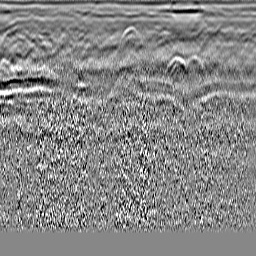cavity: (118, 22, 139, 44)
